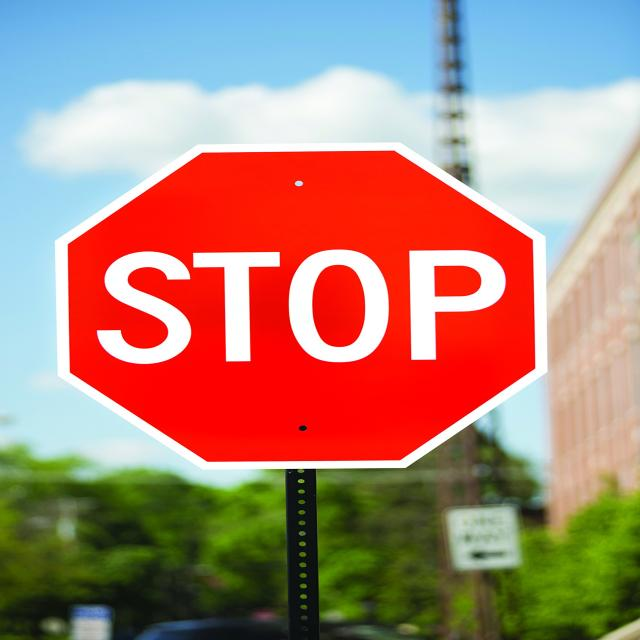STOP: (57, 144, 546, 466)
